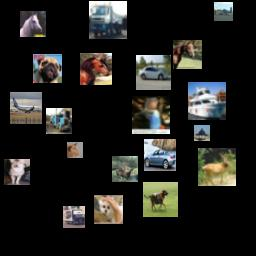airplane: (10, 92, 42, 124), (214, 2, 233, 21), (194, 125, 210, 141)
automobile: (136, 55, 171, 90), (144, 139, 176, 171)
bird: (132, 96, 170, 134)
cat: (67, 142, 83, 158)
deer: (198, 148, 236, 186), (112, 156, 138, 182)
dog: (143, 182, 178, 217), (94, 195, 123, 224), (33, 54, 62, 83), (4, 159, 30, 185)
ship: (188, 82, 226, 120)
truck: (89, 1, 127, 39), (46, 108, 72, 134), (63, 206, 85, 228)
